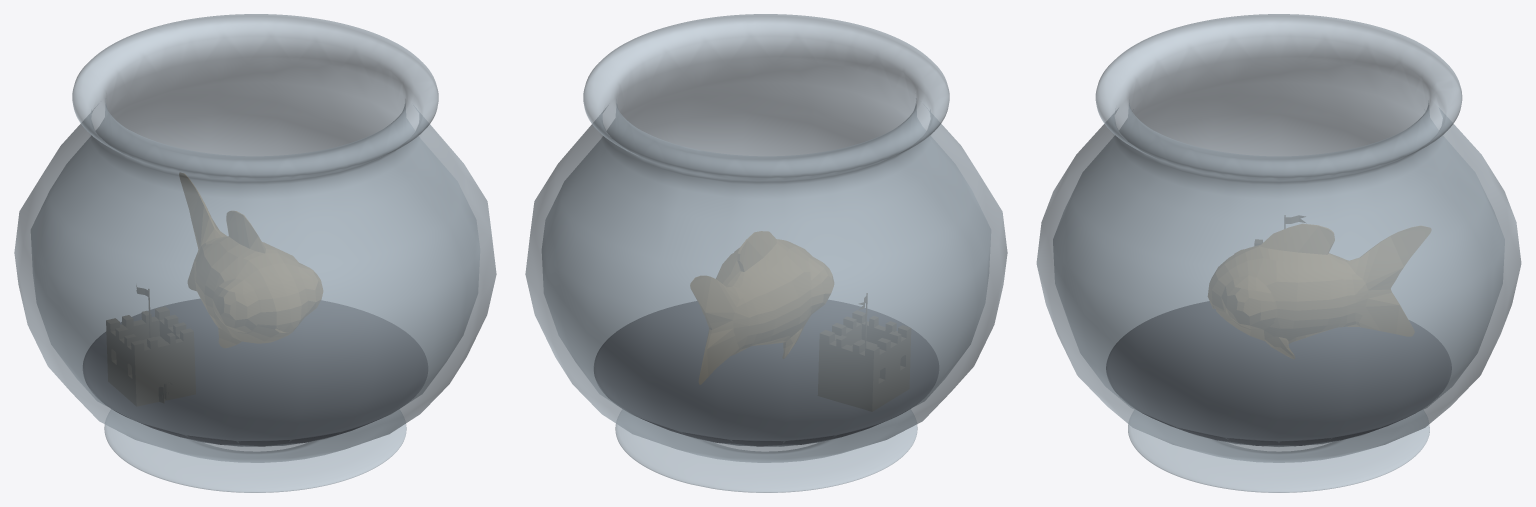
File: Goldfish_Challenge.fbx
The picture shows the model from 3 angles, left to right: view 1: azimuth 30°, elevation 25°; view 2: azimuth 150°, elevation 25°; view 3: azimuth 270°, elevation 25°; orthographic projection.
Parts seen in each view (by area): view 1: Chikin_Nugut1; view 2: Chikin_Nugut1; view 3: Chikin_Nugut1.
Part boxes in pixels (box(x1,y1,x2,y2)): Chikin_Nugut1: box(14, 14, 496, 492); Chikin_Nugut1: box(525, 14, 1007, 492); Chikin_Nugut1: box(1036, 14, 1521, 492).
Bounding box in the file's own units: 43.4 × 33.87 × 43.4.
